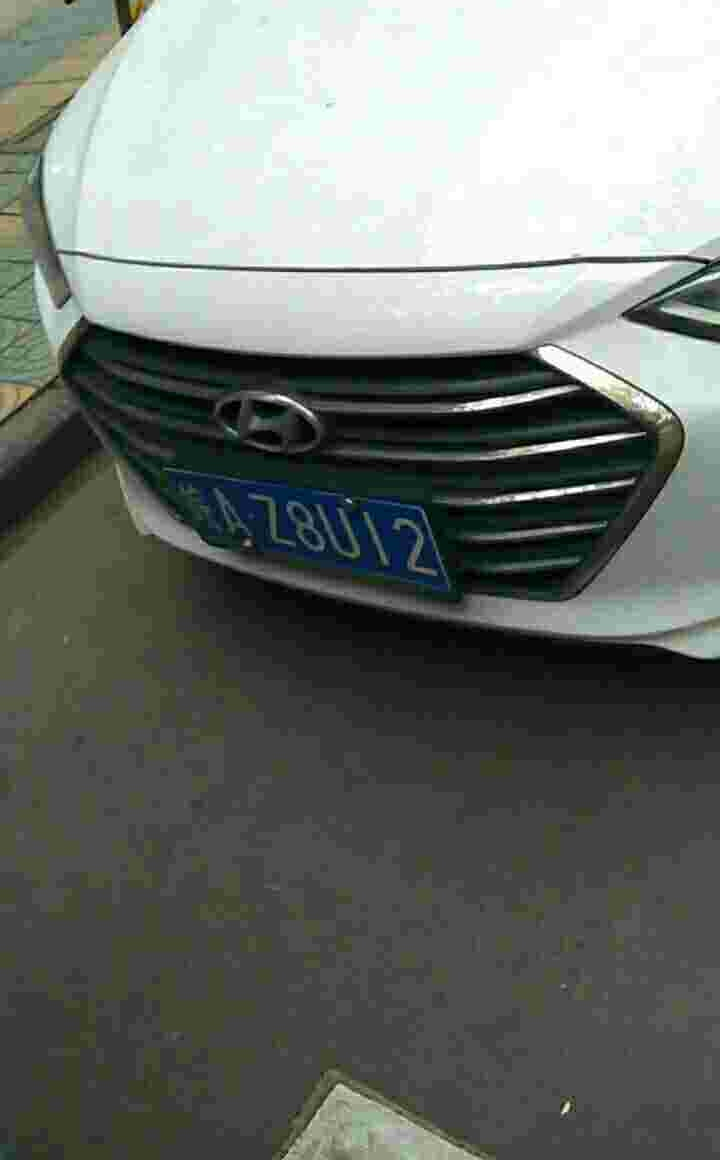license_plate: (165, 465, 456, 585)
